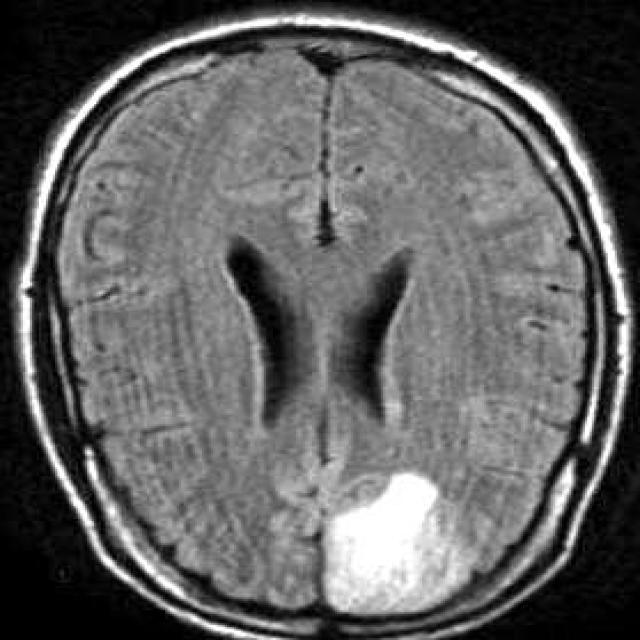Tumor-Cell: (294, 470, 502, 615)
